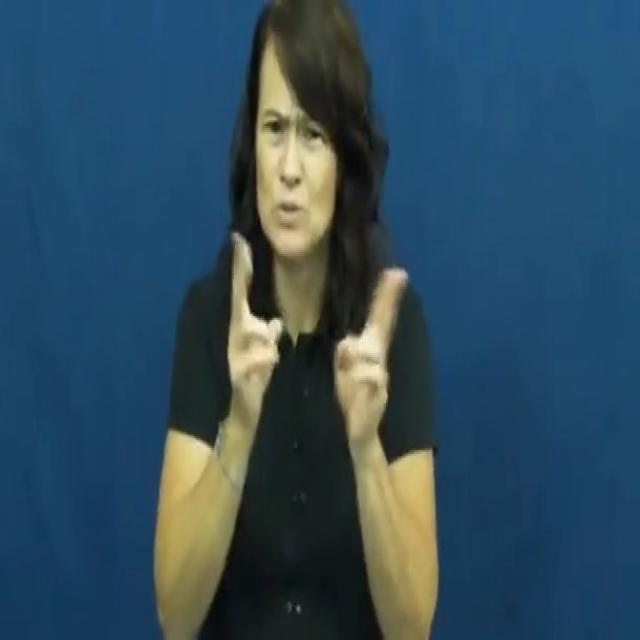urgent: (218, 224, 412, 478)
